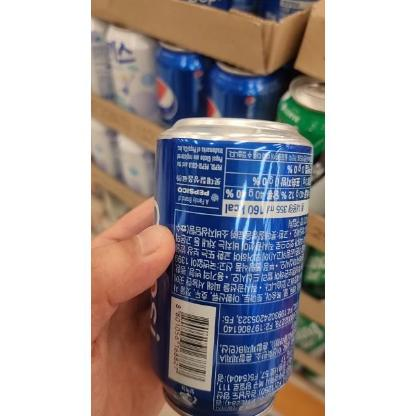Can: (148, 116, 314, 416)
